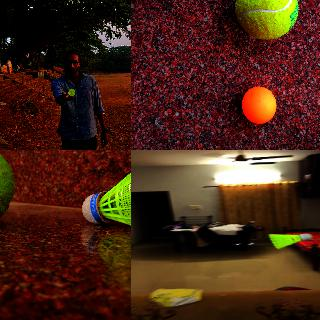shuttlecock: (82, 153, 130, 234), (268, 234, 312, 248), (67, 88, 75, 95)
